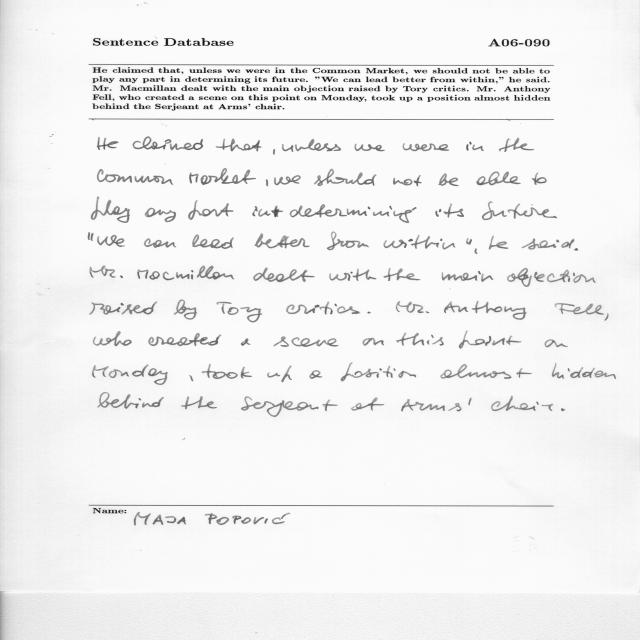word: (290, 204, 417, 223), (241, 396, 338, 417), (507, 268, 596, 287), (444, 301, 527, 320), (93, 364, 168, 385), (482, 201, 557, 220), (440, 364, 532, 379), (341, 363, 417, 381), (138, 266, 235, 280), (98, 169, 174, 185), (189, 168, 256, 185), (98, 392, 164, 409), (459, 331, 521, 349), (314, 169, 376, 186), (552, 363, 616, 379), (91, 197, 130, 223), (384, 235, 456, 249), (401, 398, 472, 412), (491, 396, 553, 412), (286, 302, 360, 315), (148, 333, 221, 346), (253, 267, 315, 282), (217, 302, 263, 322), (133, 137, 203, 150), (189, 200, 234, 220), (90, 302, 157, 315), (254, 234, 310, 249), (282, 139, 341, 152), (327, 232, 369, 250), (202, 364, 252, 379), (274, 336, 339, 347), (476, 172, 521, 186), (396, 333, 444, 346), (192, 235, 234, 249), (555, 303, 604, 315), (216, 139, 261, 152), (522, 239, 575, 250), (94, 332, 132, 347), (329, 269, 376, 281), (442, 271, 493, 282), (181, 396, 217, 410), (499, 138, 534, 152), (383, 268, 420, 281), (351, 397, 384, 411), (174, 300, 197, 320), (145, 208, 176, 222), (267, 366, 292, 383), (435, 204, 464, 218), (90, 266, 123, 278), (396, 301, 429, 313), (403, 144, 449, 152), (97, 235, 125, 247), (144, 238, 176, 248), (393, 175, 422, 186), (97, 137, 119, 150), (438, 173, 459, 186), (274, 175, 301, 185), (489, 236, 508, 250), (354, 144, 385, 151), (252, 206, 271, 217), (532, 172, 547, 185), (544, 340, 568, 348), (363, 338, 384, 346), (466, 142, 484, 151), (271, 206, 283, 218), (310, 370, 323, 379), (241, 338, 250, 346), (88, 232, 94, 241), (466, 238, 472, 245), (604, 313, 609, 321), (189, 375, 194, 381), (475, 248, 478, 254), (266, 180, 268, 187), (273, 149, 275, 155), (574, 248, 578, 251), (561, 408, 565, 411), (367, 312, 371, 314), (531, 205, 533, 206)
